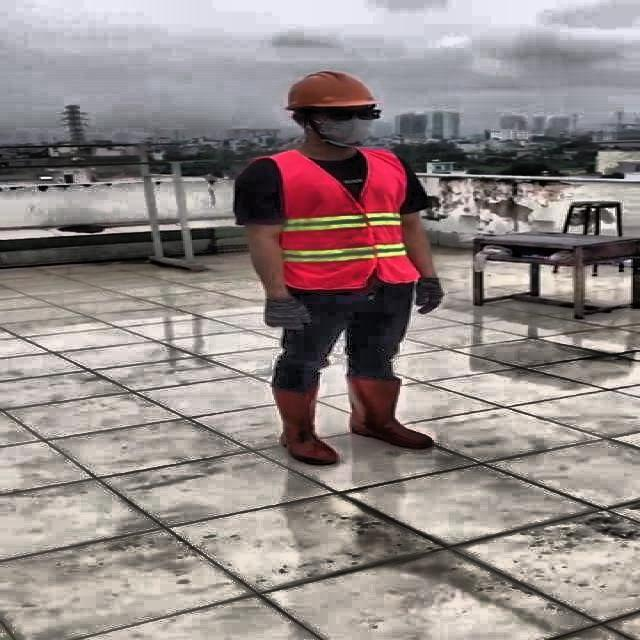safety_helmet: (284, 68, 384, 113)
safety_jacket: (260, 147, 423, 289)
